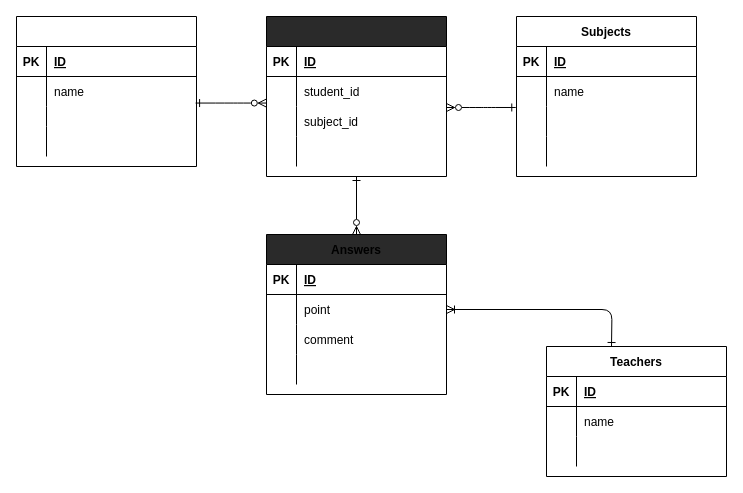
Image size: 743x493. Some labels were removed from this diagram. The shapes that lost their labels are listed below. From the top down, each one's box as (x1, y1, x2, y2) in pixels, then its label:
(16, 16, 196, 166): Students
(266, 16, 446, 176): subjectRegistrations
